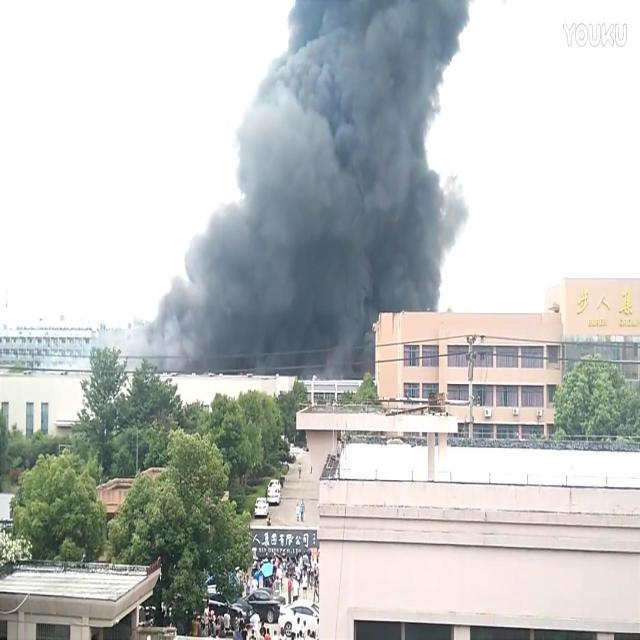Smoke: (85, 1, 472, 382)
